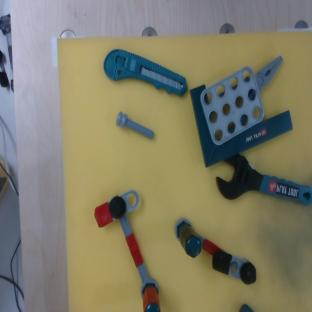non_pass: (165, 216, 262, 295)
pass: (91, 189, 163, 312)
